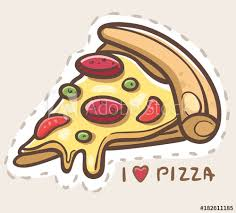pizza: (18, 15, 223, 161)
